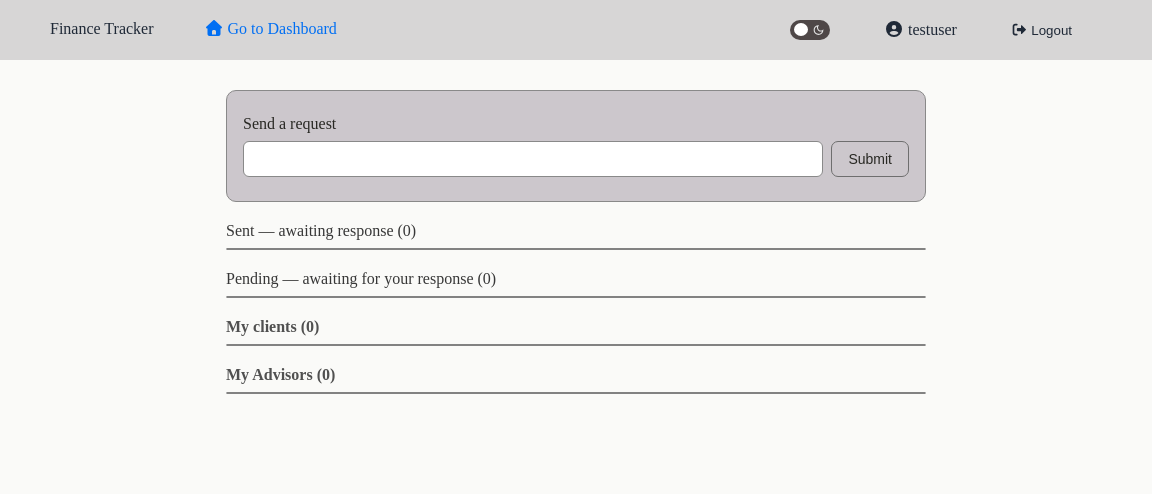
Test: Links Page › shows a sent request as outgoing after submitting
Type "client@gmail.com" into the field at [533, 159], box [243, 141, 823, 177]
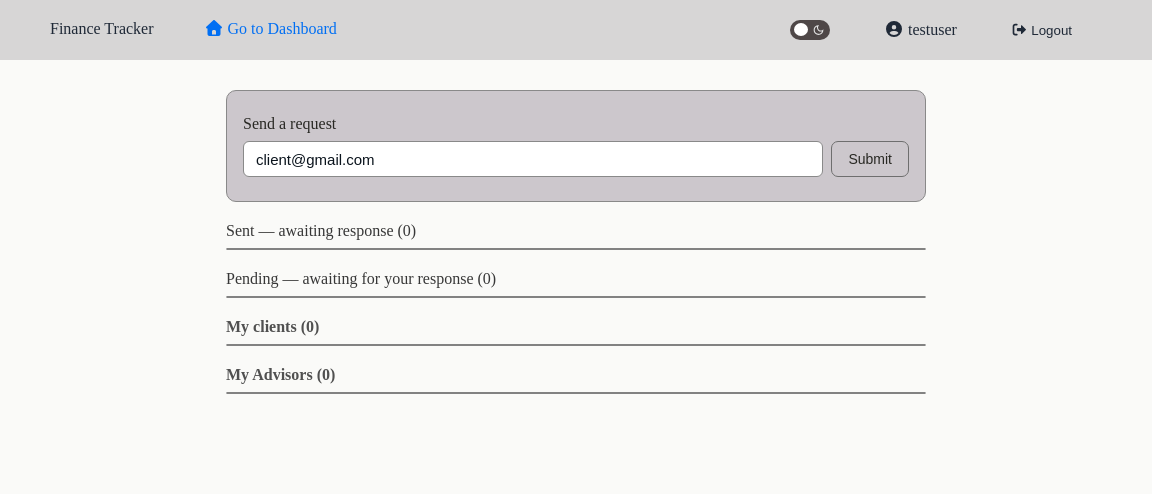
Click the button "Submit" at [870, 159], box [831, 141, 909, 177]
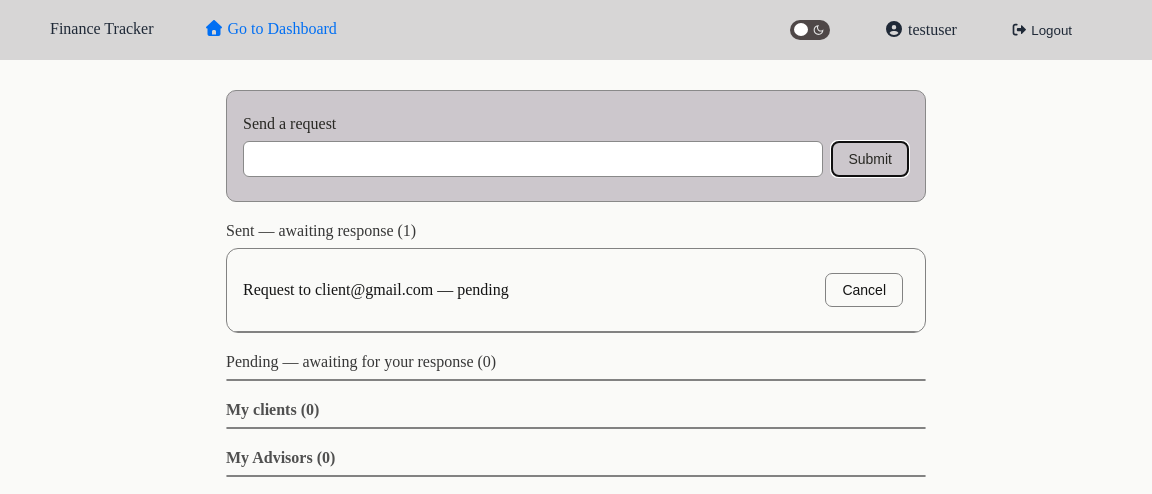
Now the text "Request to client@gmail.com — pending" is shown, box [243, 281, 509, 299]
